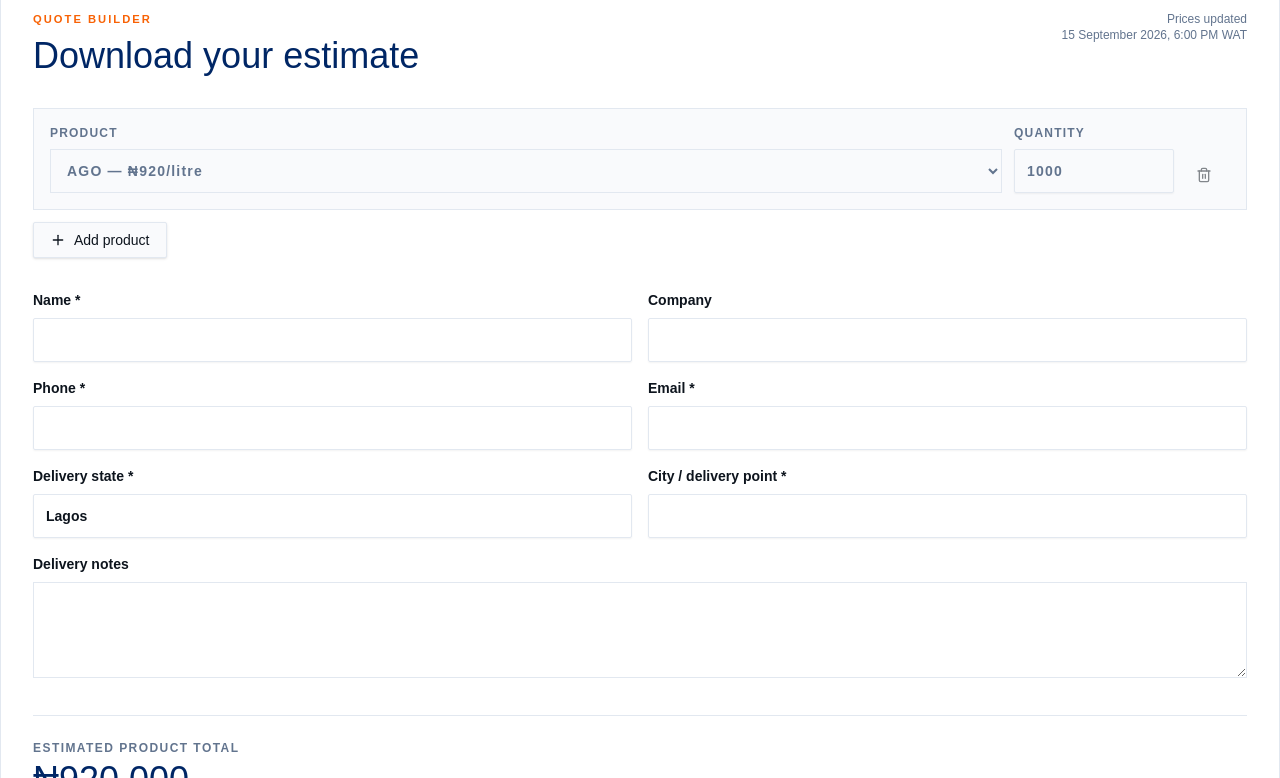
Test case: quote builder › shows a recoverable error if PDF generation fails
The image size is (1280, 778).
Type "Ada" into the field labelled "Name *" at [332, 340], box [33, 318, 632, 362]
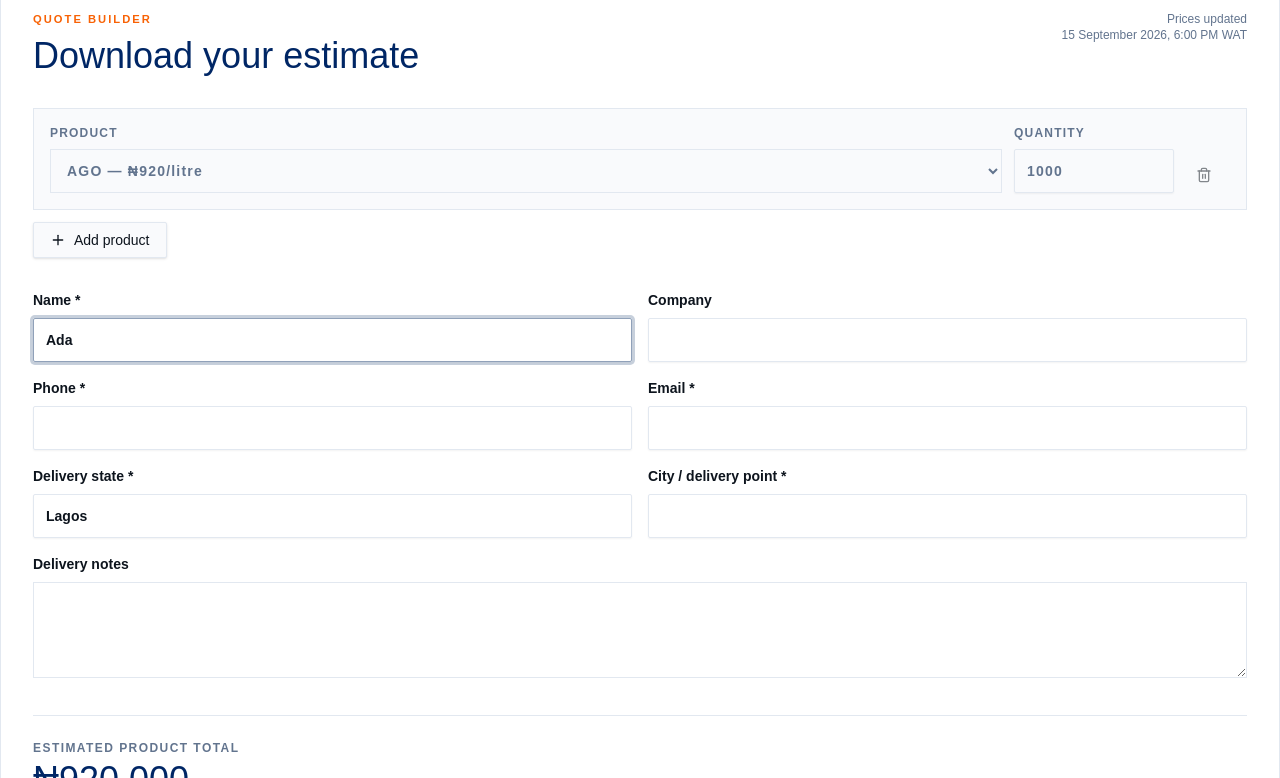
Type "+2349024876164" into the field labelled "Phone *" at [332, 428], box [33, 406, 632, 450]
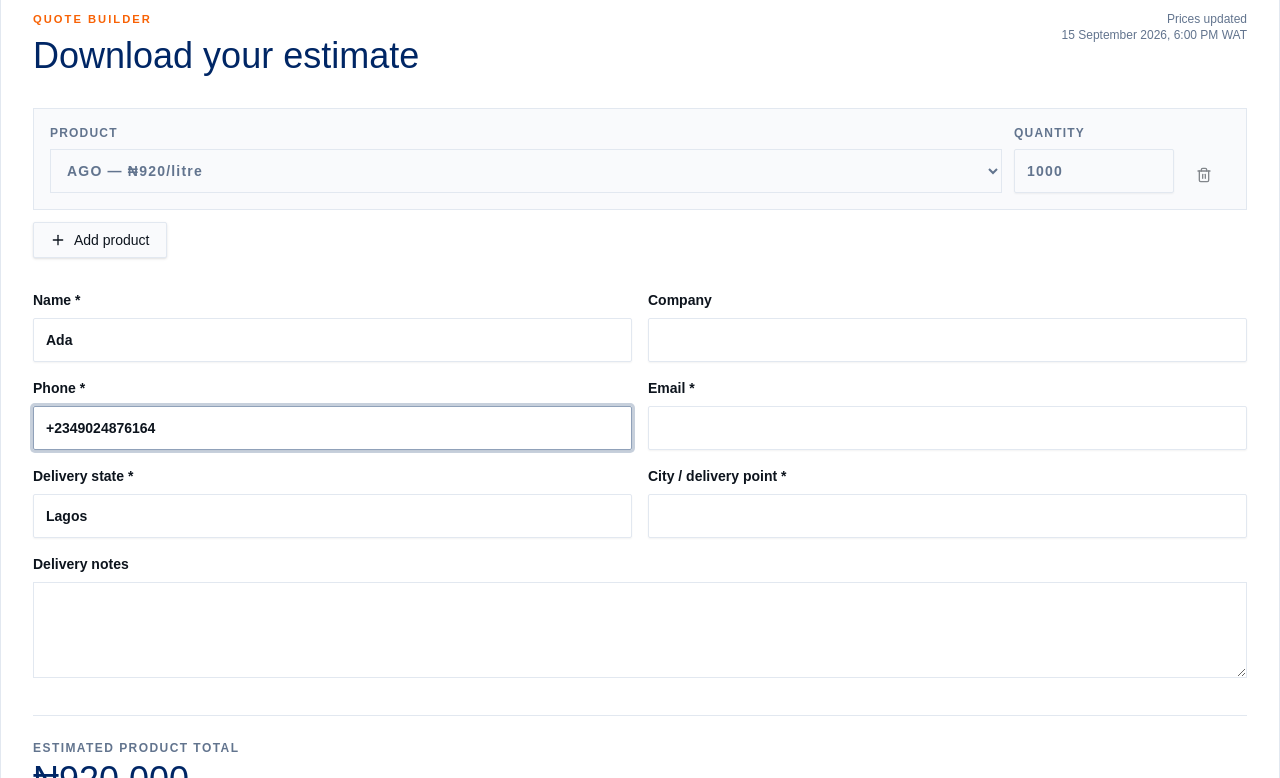
Type "ada@example.com" into the field labelled "Email *" at [948, 428], box [648, 406, 1247, 450]
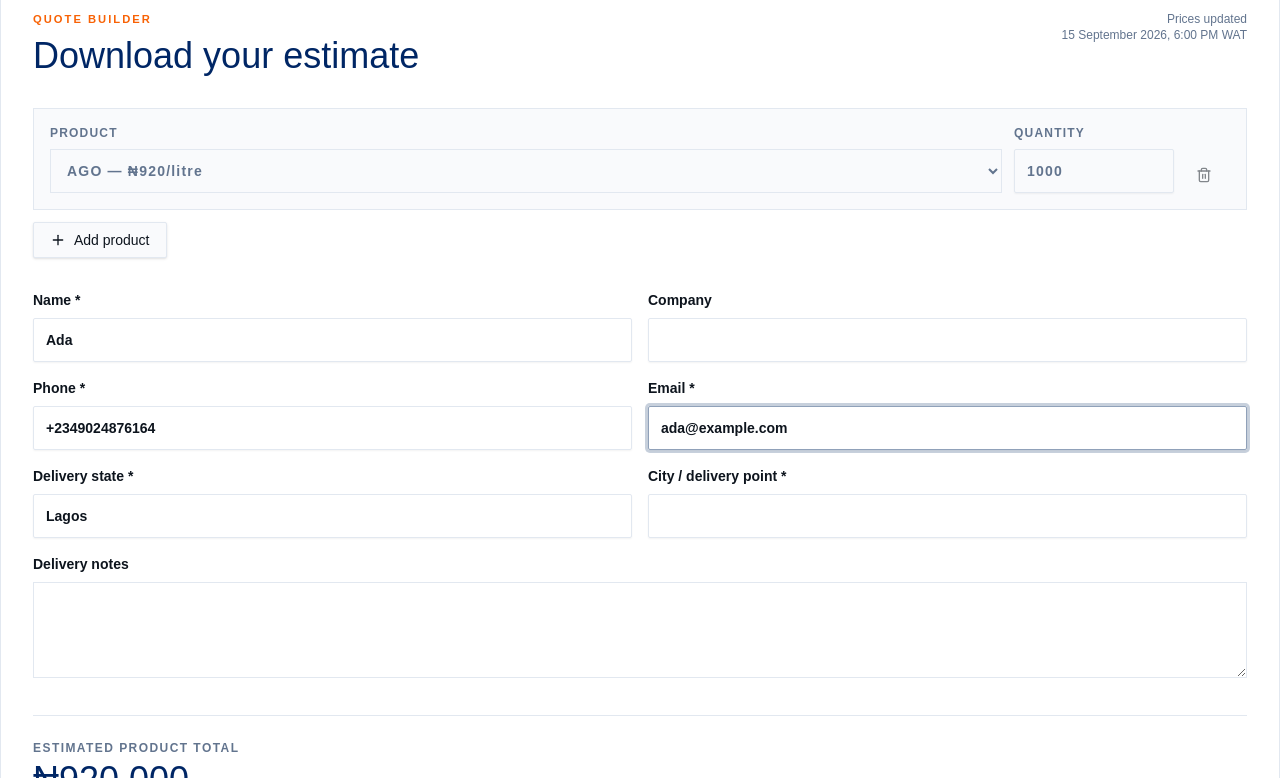
Type "Surulere" into the field labelled "City / delivery point *" at [948, 516], box [648, 494, 1247, 538]
(page scrolled)
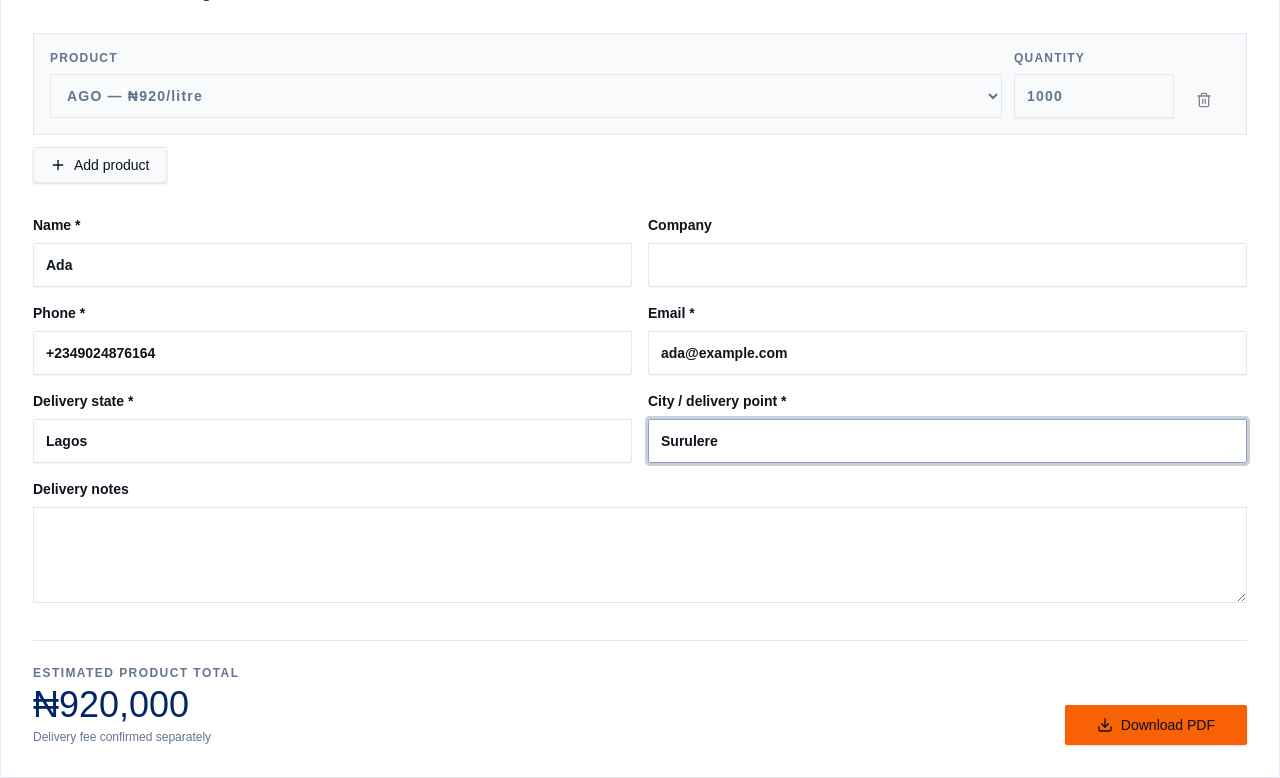
Click the button "Download PDF" at [1156, 725], box [1065, 705, 1247, 745]
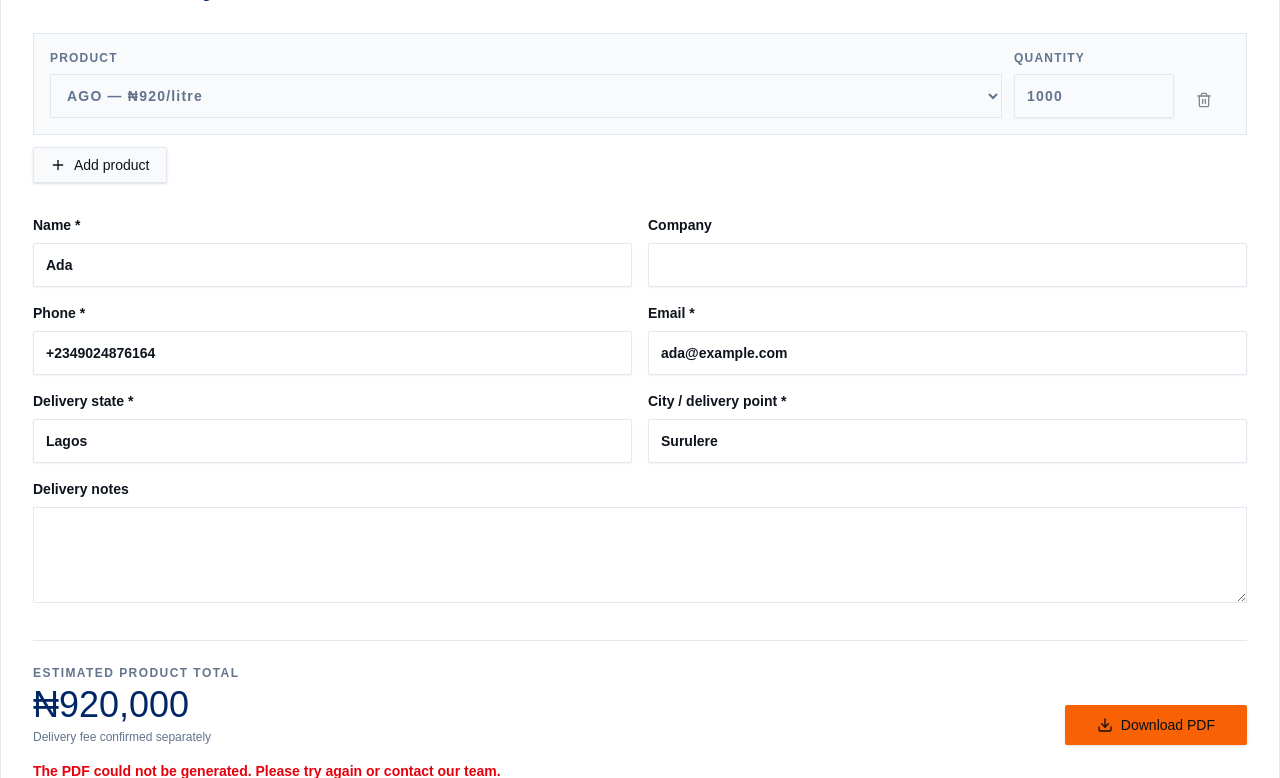
Check: the message shows "Please try again", box [33, 763, 500, 777]
Click the button "Download PDF" at [1156, 725], box [1065, 705, 1247, 745]
(page scrolled)
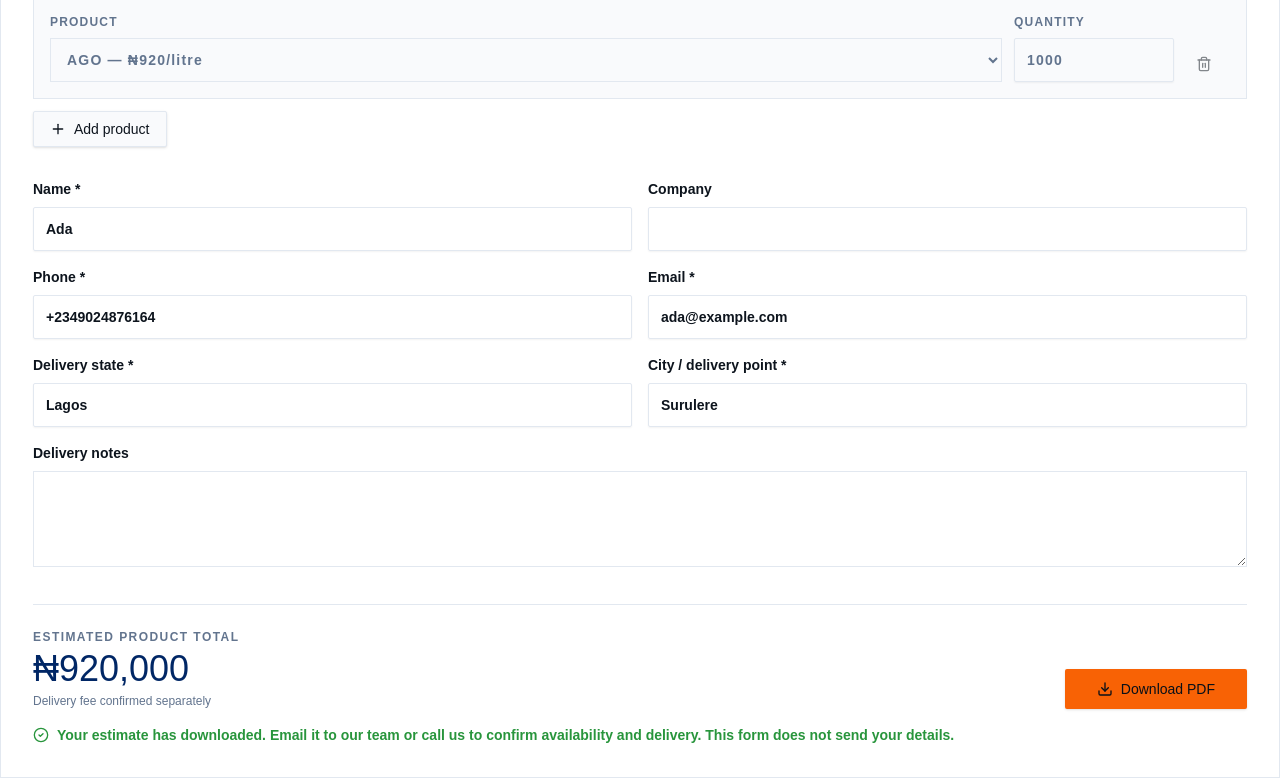
Check: the message shows "downloaded", box [57, 727, 954, 743]
